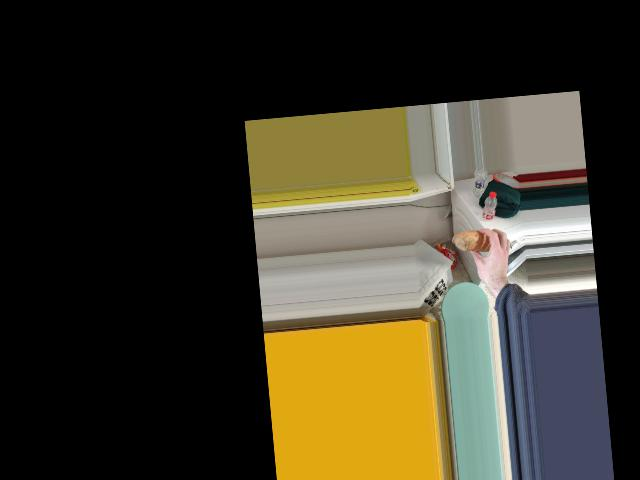sweet_potato: (463, 231, 501, 264)
